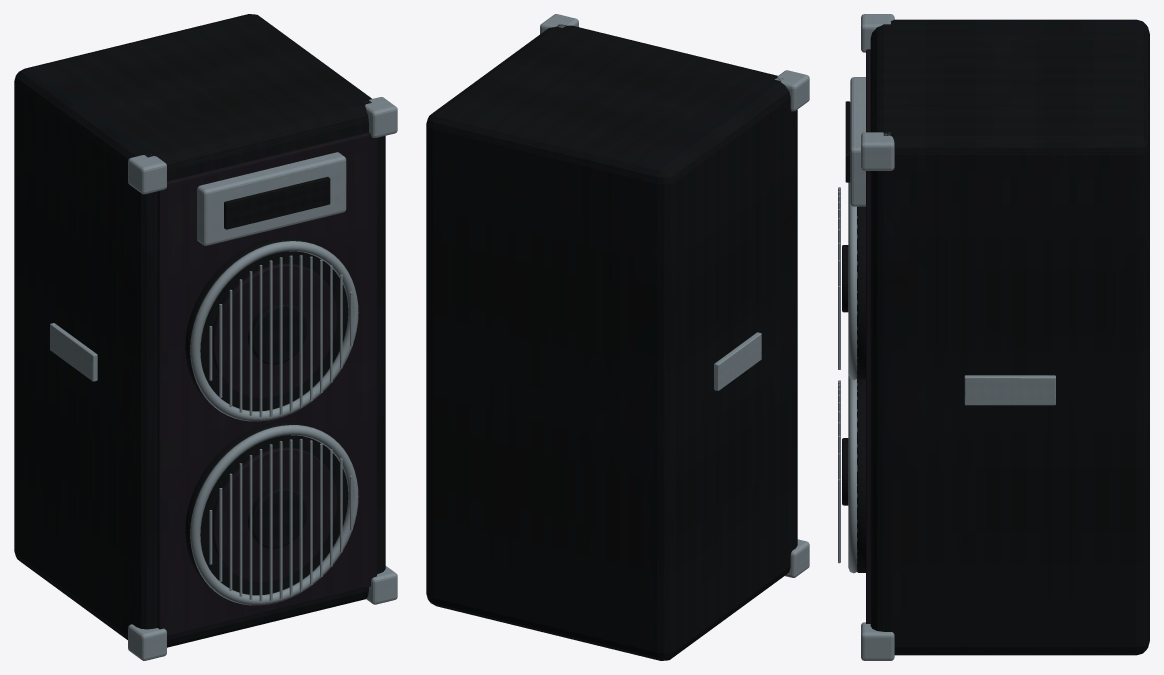
File: speaker.glb
3 renders of one model, left to right at view 1: azimuth 30°, elevation 25°; view 2: azimuth 150°, elevation 25°; view 3: azimuth 270°, elevation 25°, orthographic. The views are drawn at different scales.
Visible parts, largest first — view 1: speaker; view 2: speaker; view 3: speaker.
Part boxes in pixels (left/top/right/bottom): speaker: left=14, top=14, right=397, bottom=660; speaker: left=426, top=14, right=809, bottom=660; speaker: left=838, top=14, right=1149, bottom=660.
Bounding box in the file's own units: 1.2 × 2.2 × 1.2.
Materials: 1 (1 with a texture image).
